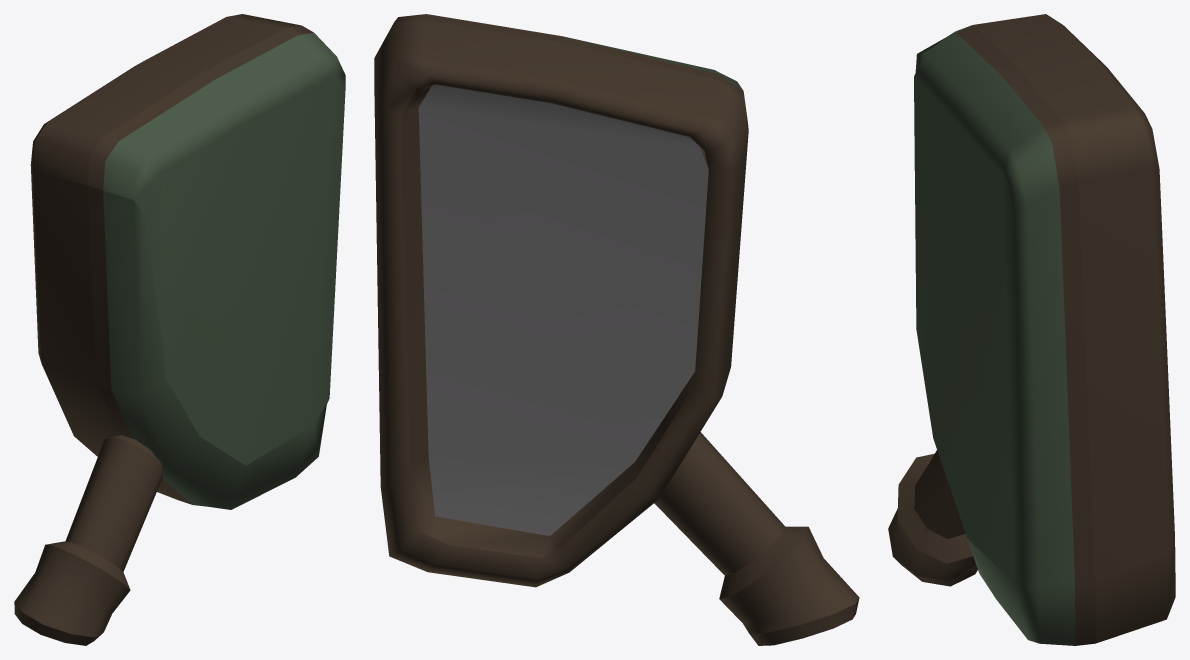
Rendered from leftmirror.fbx.
3 views of the same model, side by side, from view 1: azimuth 30°, elevation 25°; view 2: azimuth 150°, elevation 25°; view 3: azimuth 270°, elevation 25° (orthographic). The views are drawn at different scales.
Visible parts, largest first — view 1: node_id409, node_id407; view 2: node_id411, node_id407; view 3: node_id409, node_id407.
Boxes of the visible parts, box(x1,y1,x2,y2) form: node_id409: box(103, 32, 345, 509); node_id407: box(14, 14, 313, 645); node_id411: box(418, 84, 708, 535); node_id407: box(374, 14, 859, 645); node_id409: box(914, 32, 1075, 645); node_id407: box(888, 14, 1175, 645).
Bounding box in the file's own units: 0.06 × 0.0803 × 0.0344.
Materials: 3 (2 with a texture image).
